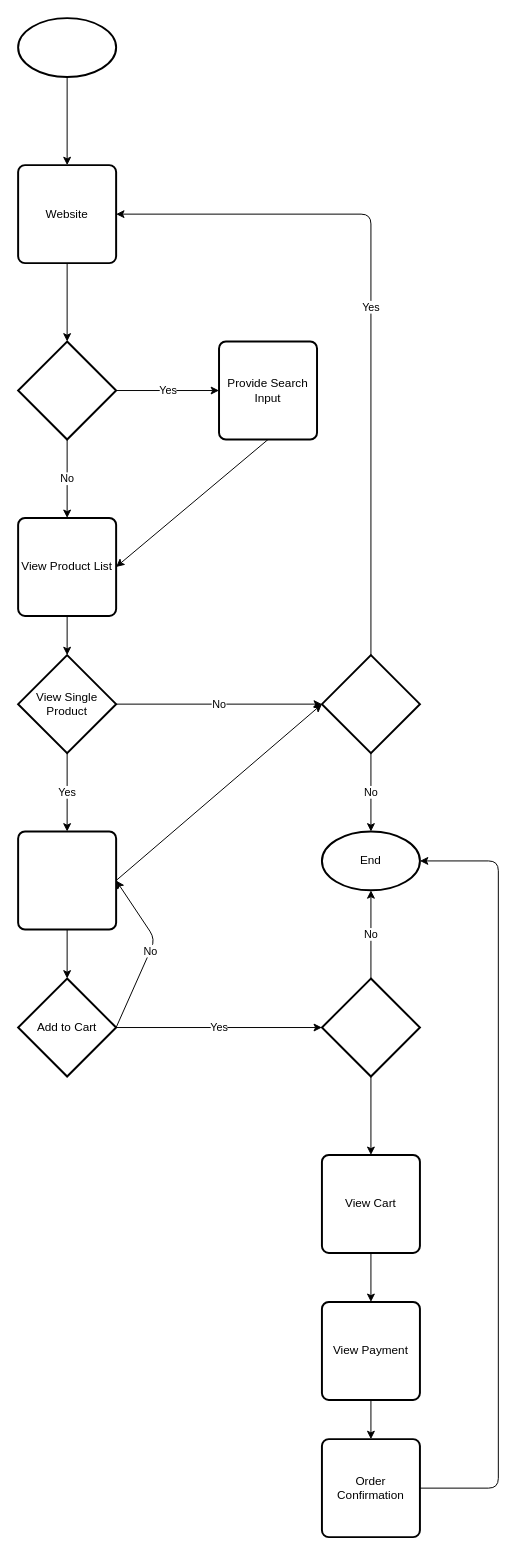
Image size: 523x1554. Some labels were removed from this diagram. The centre of each missing label's shape, as x and y in pixels:
"Checkout" goes at [370,1027].
"Continue Shopping" goes at [370,704].
"Search Product" goes at [67,390].
"Single Product View" goes at [67,880].
"Start" goes at [67,47].
